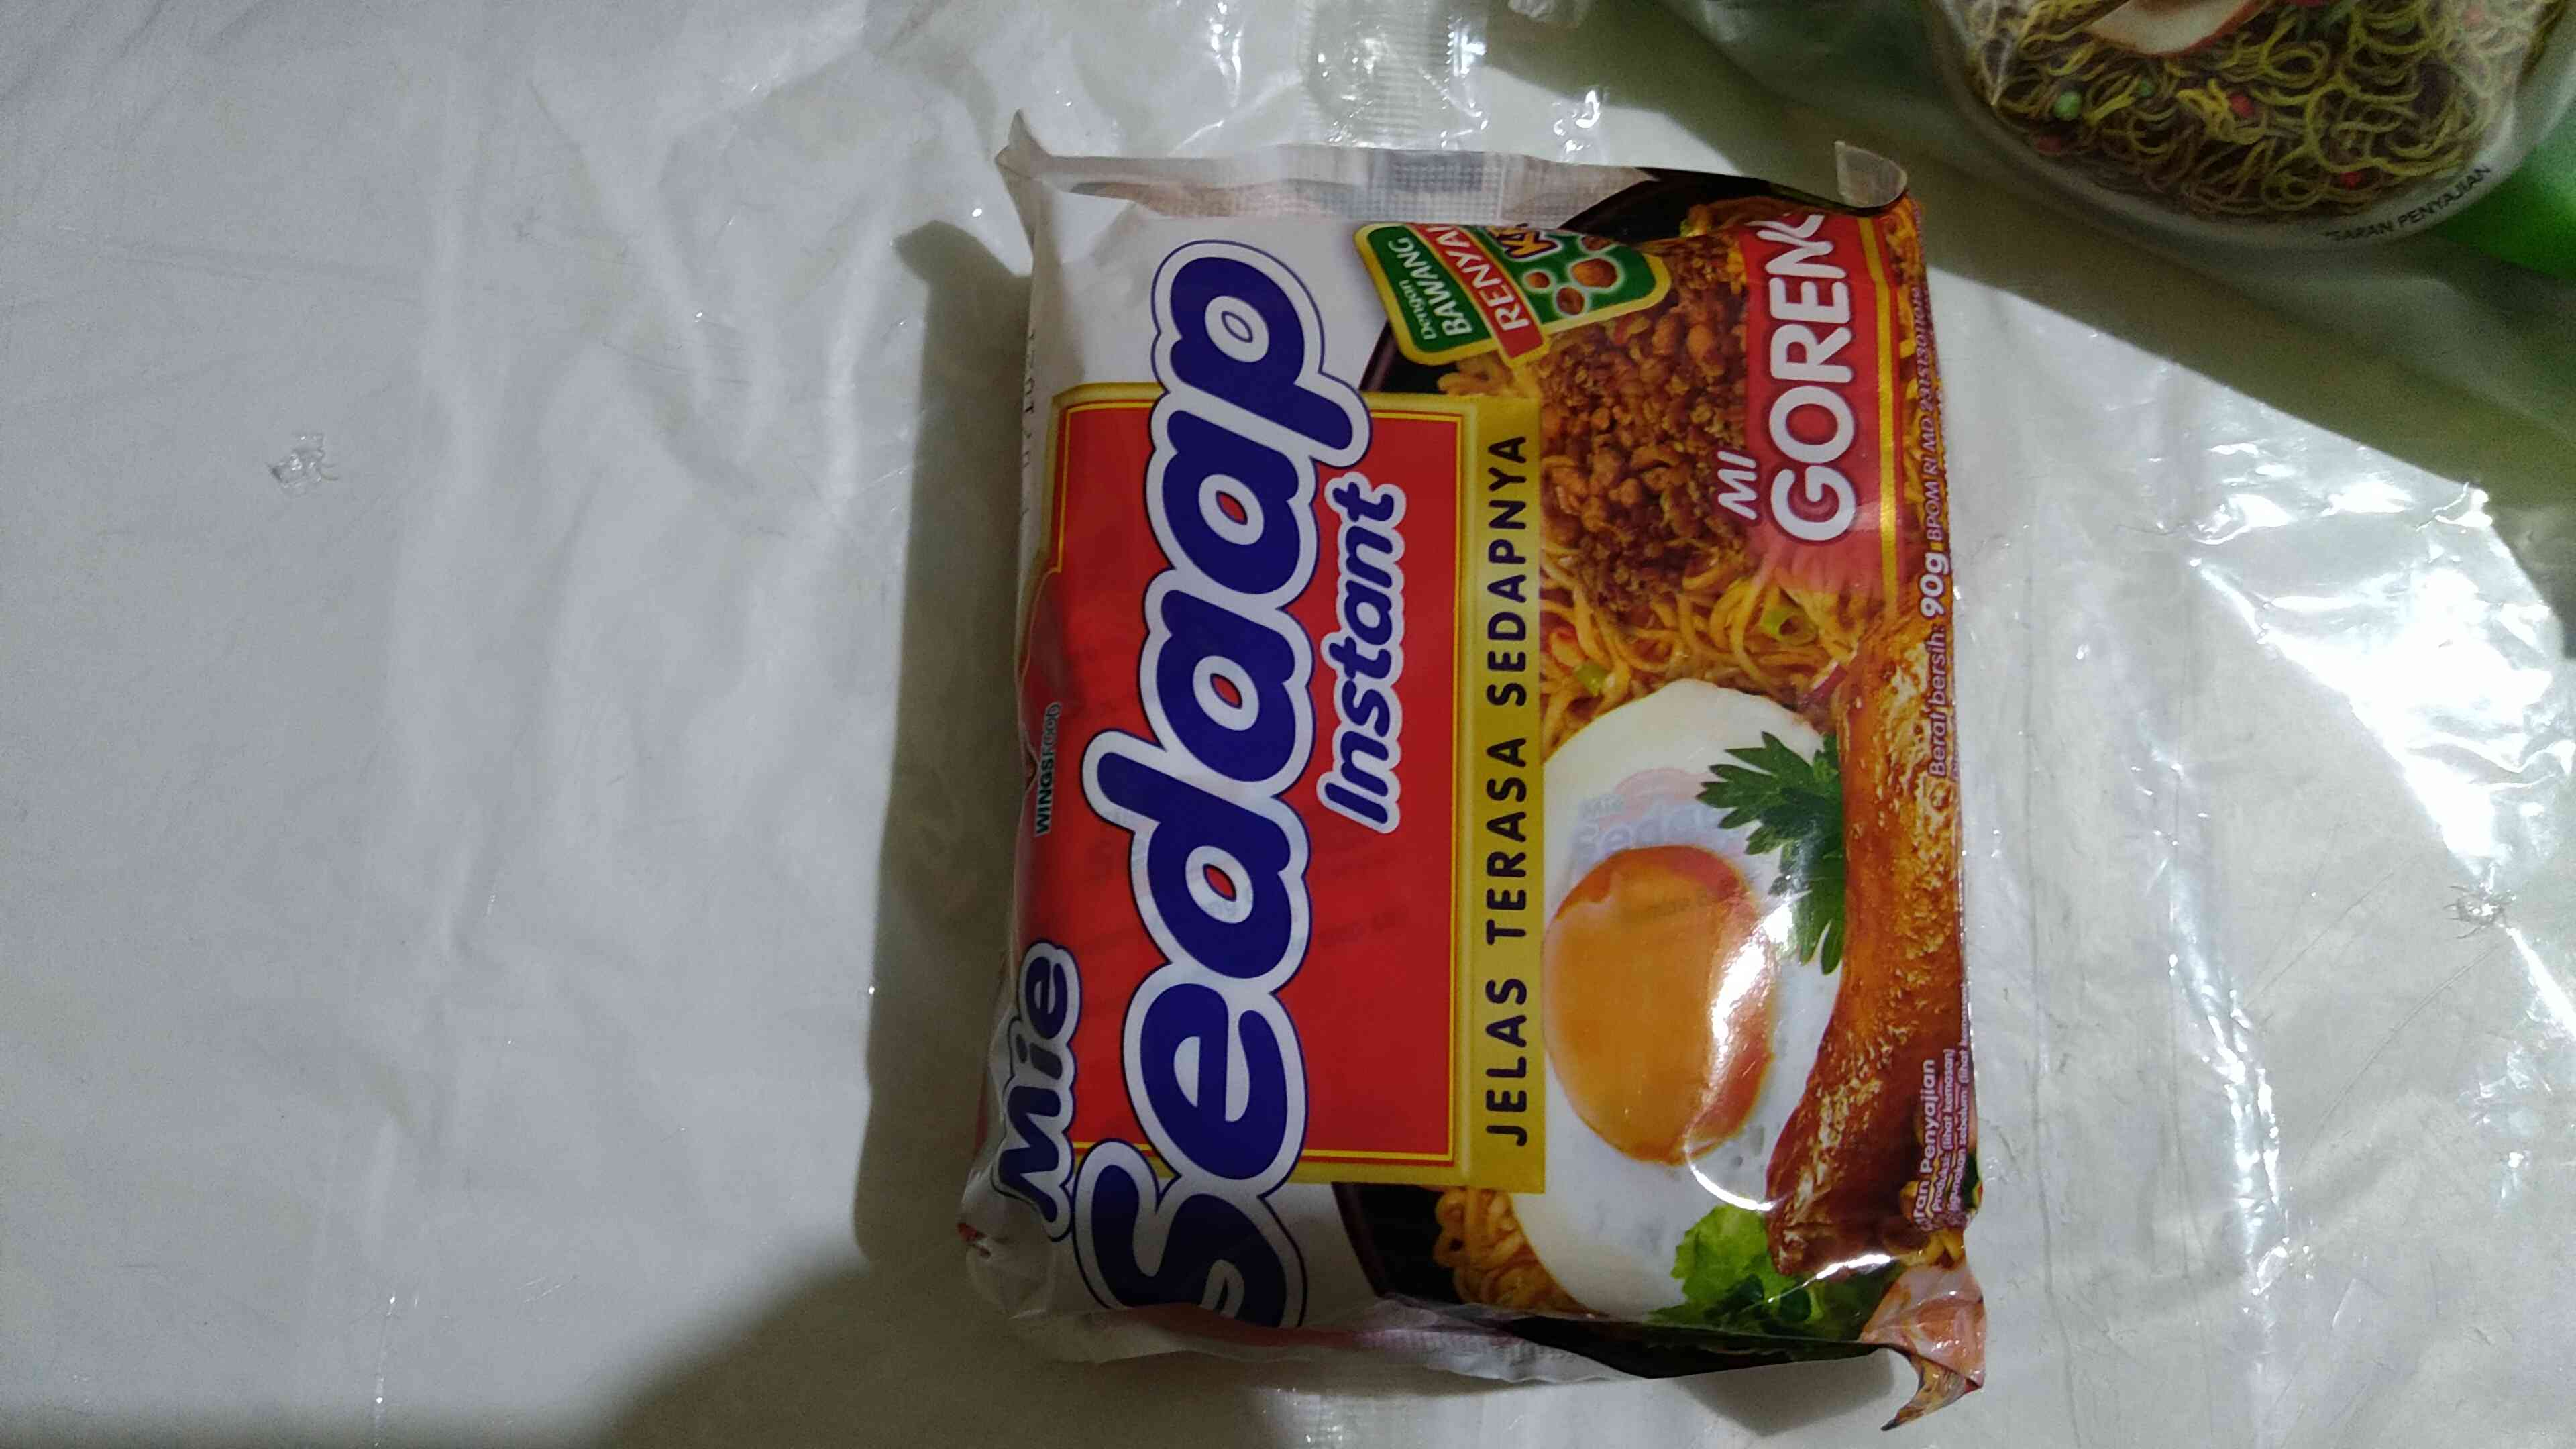sedaap goreng: (931, 115, 2026, 1435)
